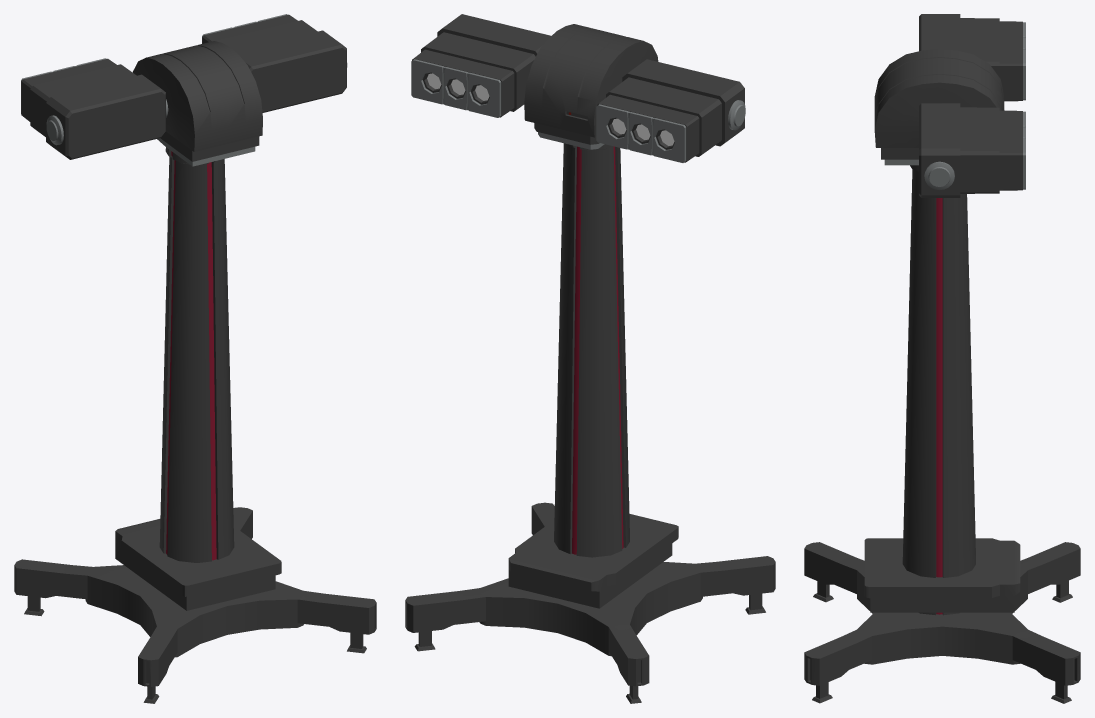
File: Flood Light.fbx
3 renders of one model, left to right at view 1: azimuth 30°, elevation 25°; view 2: azimuth 150°, elevation 25°; view 3: azimuth 270°, elevation 25°, orthographic. The views are drawn at different scales.
Parts seen in each view (by area): view 1: Main_Base_Piece, Light_Pieces; view 2: Main_Base_Piece, Light_Pieces; view 3: Main_Base_Piece, Light_Pieces.
Part boxes in pixels (bbox=[...]): Main_Base_Piece: bbox=[14, 41, 376, 703]; Light_Pieces: bbox=[21, 14, 347, 159]; Main_Base_Piece: bbox=[405, 24, 775, 703]; Light_Pieces: bbox=[411, 14, 745, 162]; Main_Base_Piece: bbox=[804, 49, 1080, 703]; Light_Pieces: bbox=[919, 14, 1025, 197].
Bounding box in the file's own units: 2.35 × 4.46 × 1.92.
